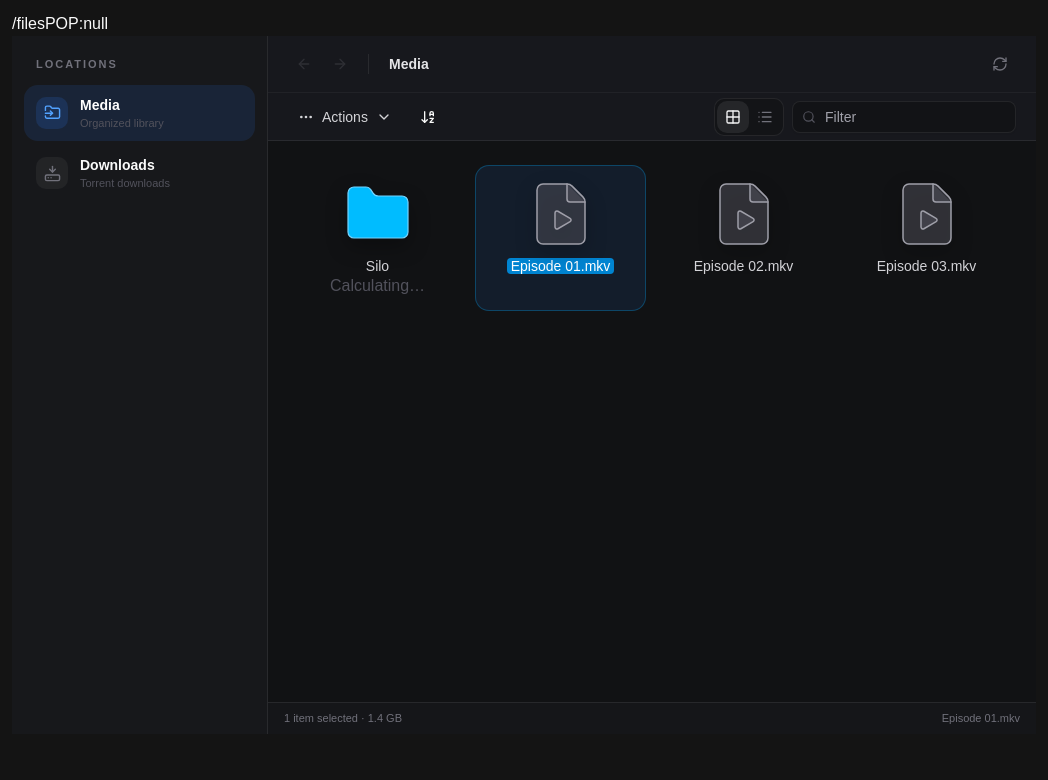
Test: FileManager › selects focused items without a ring and opens directories with Enter
This screenshot has width=1048, height=780.
Click the button named "List view".
click(765, 116)  # box [749, 100, 781, 132]
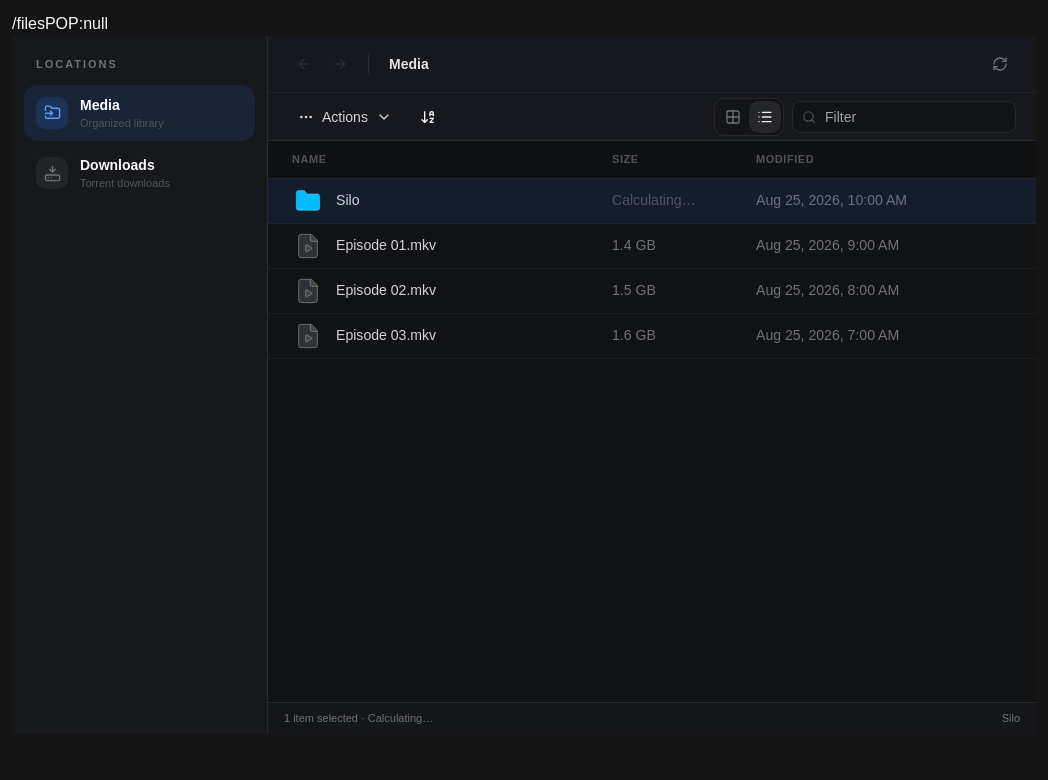
Press Enter in the button with aria-label "Silo", box [268, 178, 1036, 224]
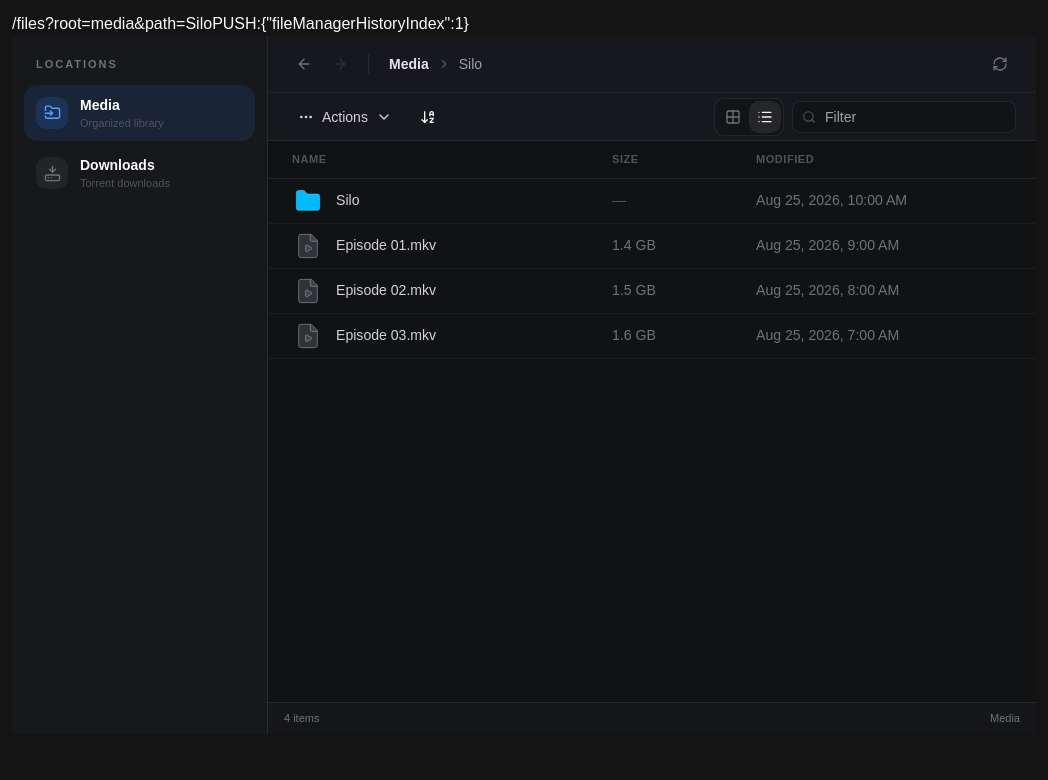
Now the text with test id "router-location" reads "/files?root=media&path=Silo", box [12, 15, 212, 32]
